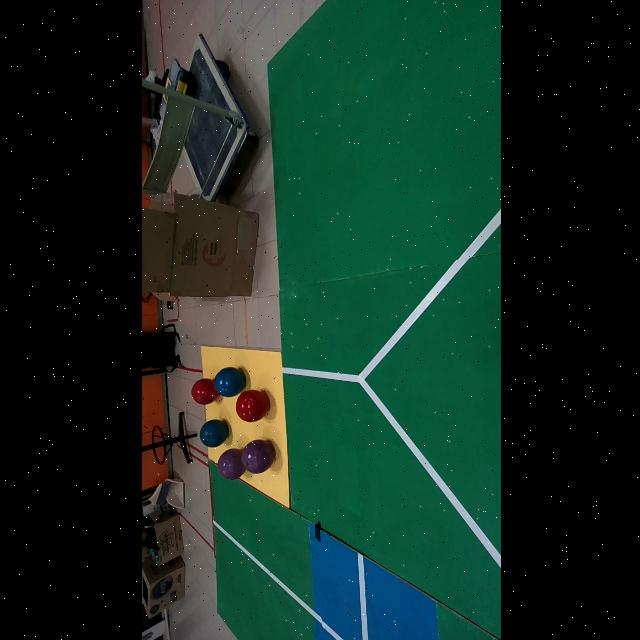B: (212, 367, 244, 397), (198, 420, 226, 447)
P: (240, 440, 273, 474), (216, 449, 244, 479)
R: (234, 389, 268, 422), (190, 379, 217, 404)
